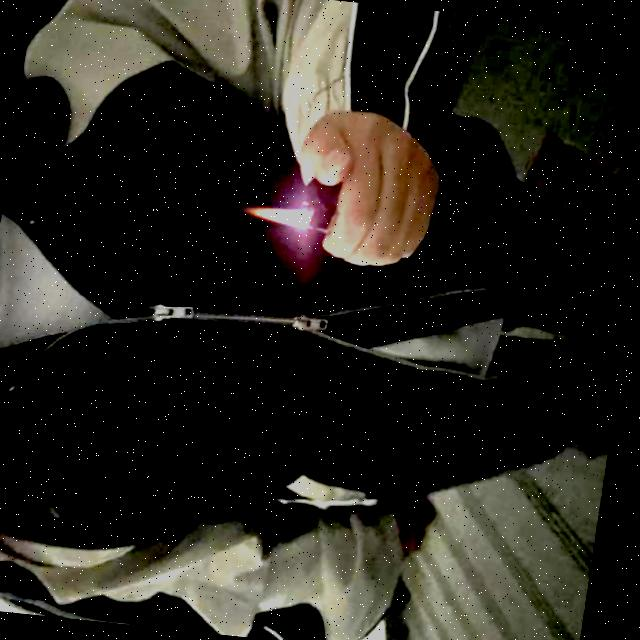Fire: (247, 201, 303, 228)
